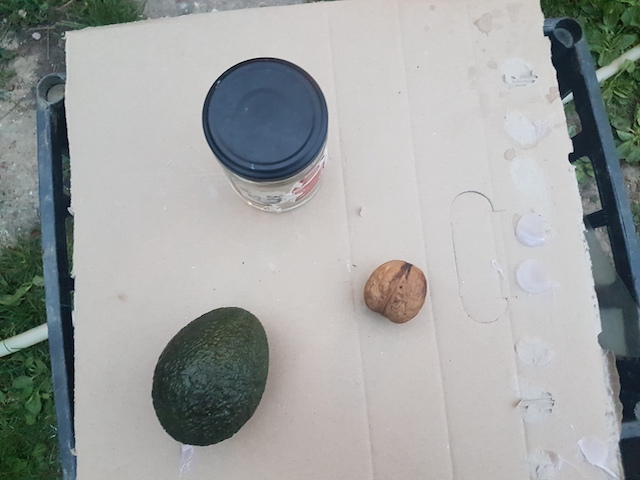avocado: (147, 302, 268, 447)
nut: (360, 256, 431, 325)
recipient: (201, 53, 331, 180)
